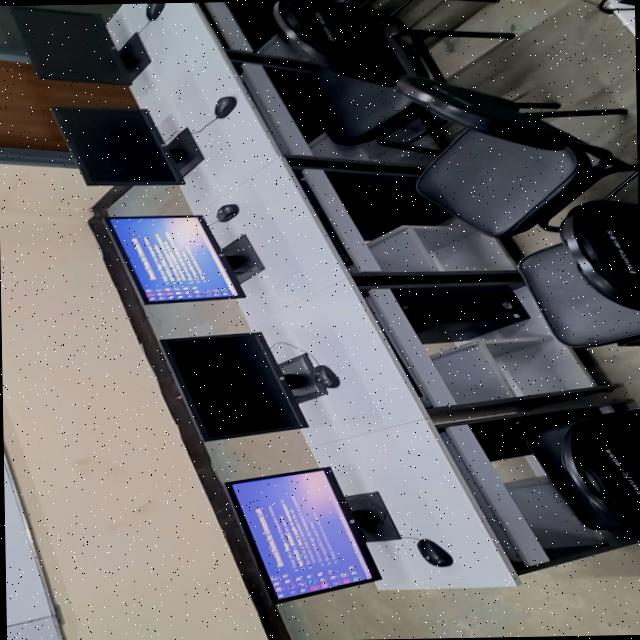Chair: (420, 83, 604, 222), (278, 4, 436, 140), (523, 227, 640, 347), (532, 425, 640, 532)
Cpu: (407, 290, 524, 344), (356, 179, 418, 238), (488, 415, 532, 462)
Monitor: (221, 468, 379, 589), (156, 329, 304, 442), (94, 213, 250, 310), (51, 104, 191, 194), (10, 5, 132, 89)
Mouse: (411, 536, 454, 570), (310, 362, 340, 392), (209, 94, 241, 121), (212, 200, 242, 223), (140, 3, 168, 22)
